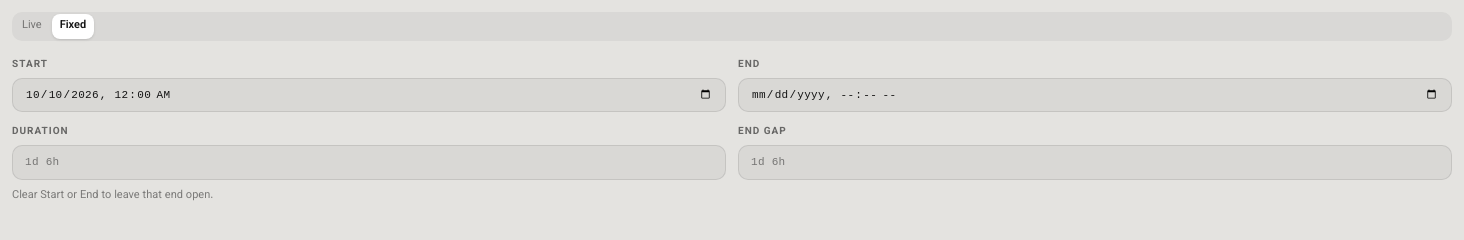
the fields › an End before the Start is refused, not swapped
Type "2026-10-01T00:00" into the field labelled "End" at (1095, 95), box [738,78,1452,112]
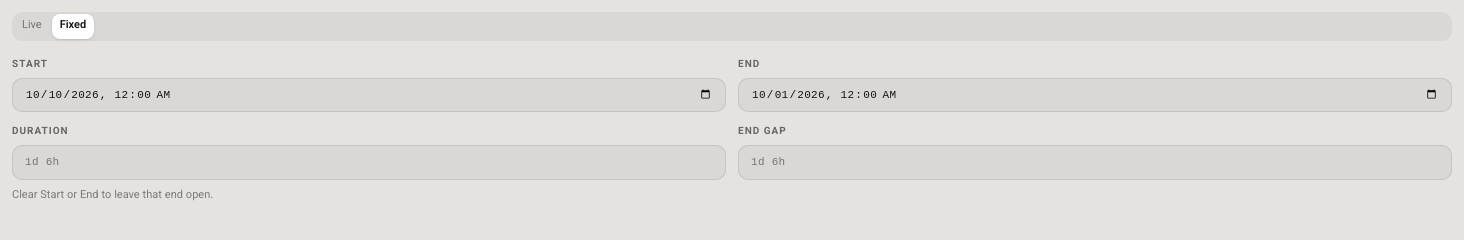
Press Enter in the field labelled "End", box [738,78,1452,112]
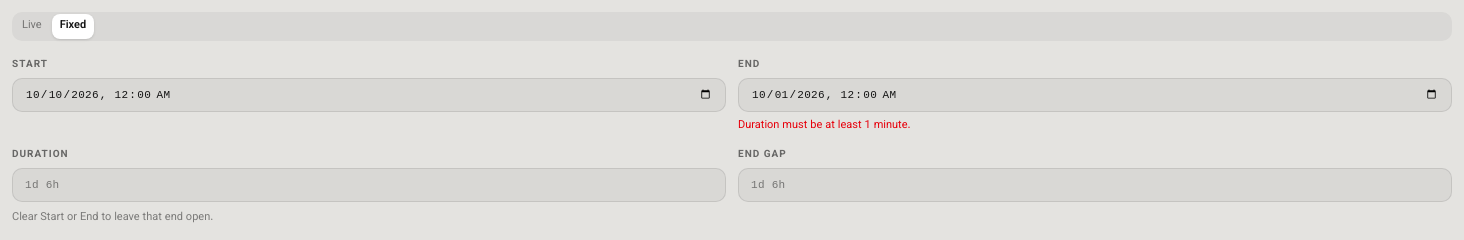
Now the message reads "Duration must be at least 1 minute.", box [738,117,910,134]
